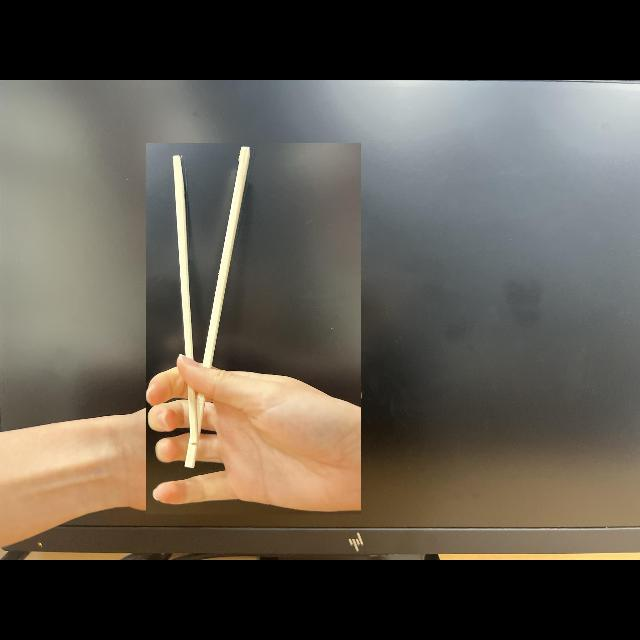stick: (146, 143, 360, 514)
